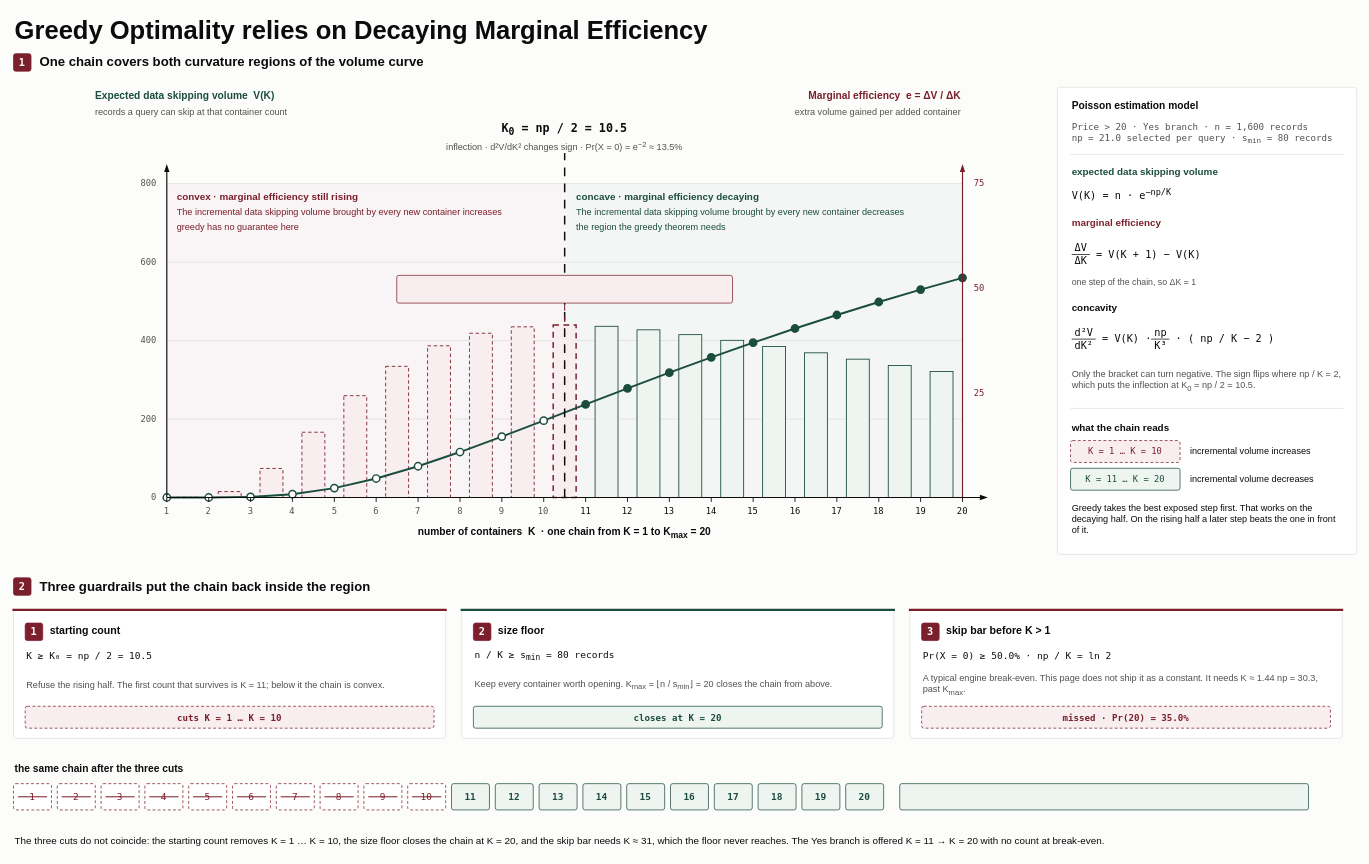
Some shapes in this 1369 by 864 pixel diagram are drawn without their labels. The centre of each missing label's shape, as x and y in pixels:
"offered · K = 11 → K = 20" belongs at (1104,796).
"tallest step K = 10 → K = 11 · e = 41.2 · it straddles K 0" belongs at (564,289).
